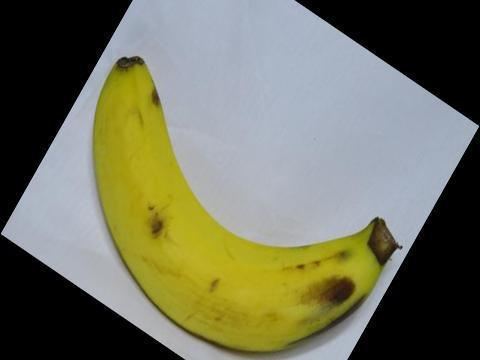freshripe: (80, 42, 421, 359)
